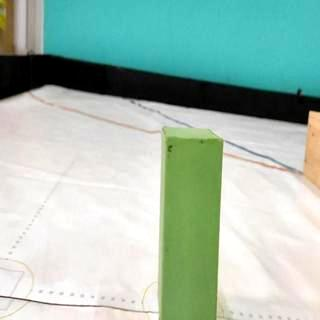greenbox: (160, 126, 223, 320)
